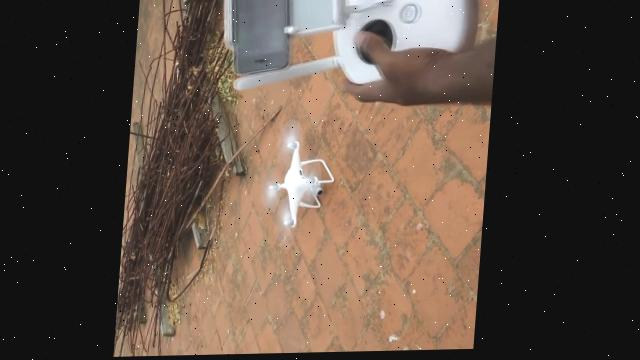drone: (253, 107, 361, 252)
